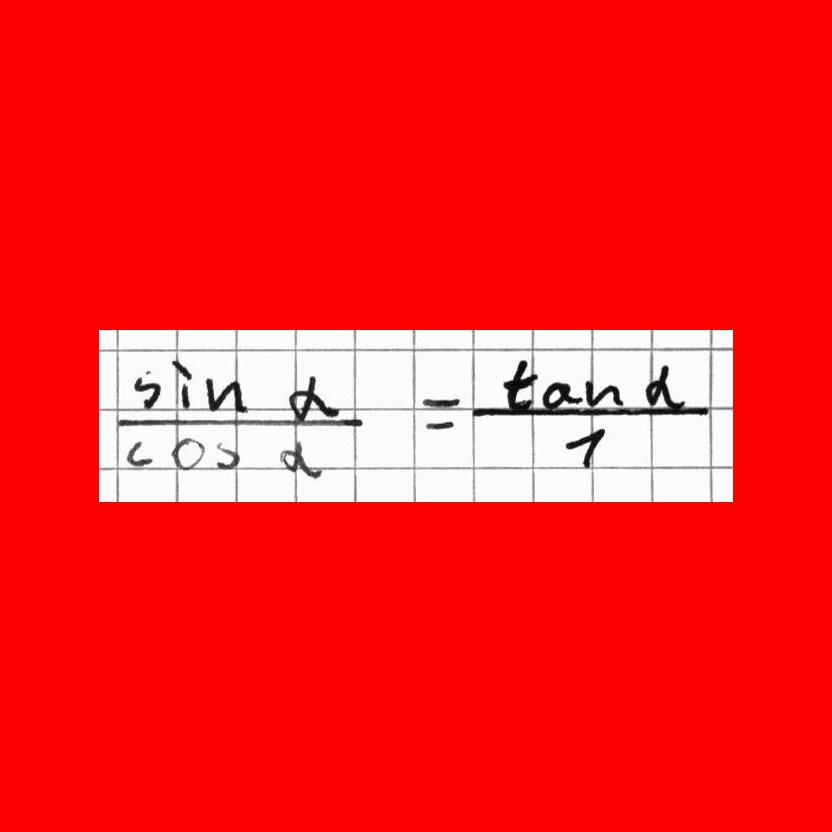Char: (469, 403, 708, 419), (116, 416, 364, 429), (284, 371, 339, 426), (499, 354, 539, 416), (642, 360, 688, 411), (560, 427, 608, 471), (275, 438, 324, 479), (205, 373, 251, 415), (417, 390, 459, 432), (579, 377, 626, 411), (170, 358, 194, 412), (131, 370, 162, 410), (168, 435, 203, 470), (542, 379, 572, 413), (124, 437, 154, 470), (212, 441, 241, 471)
